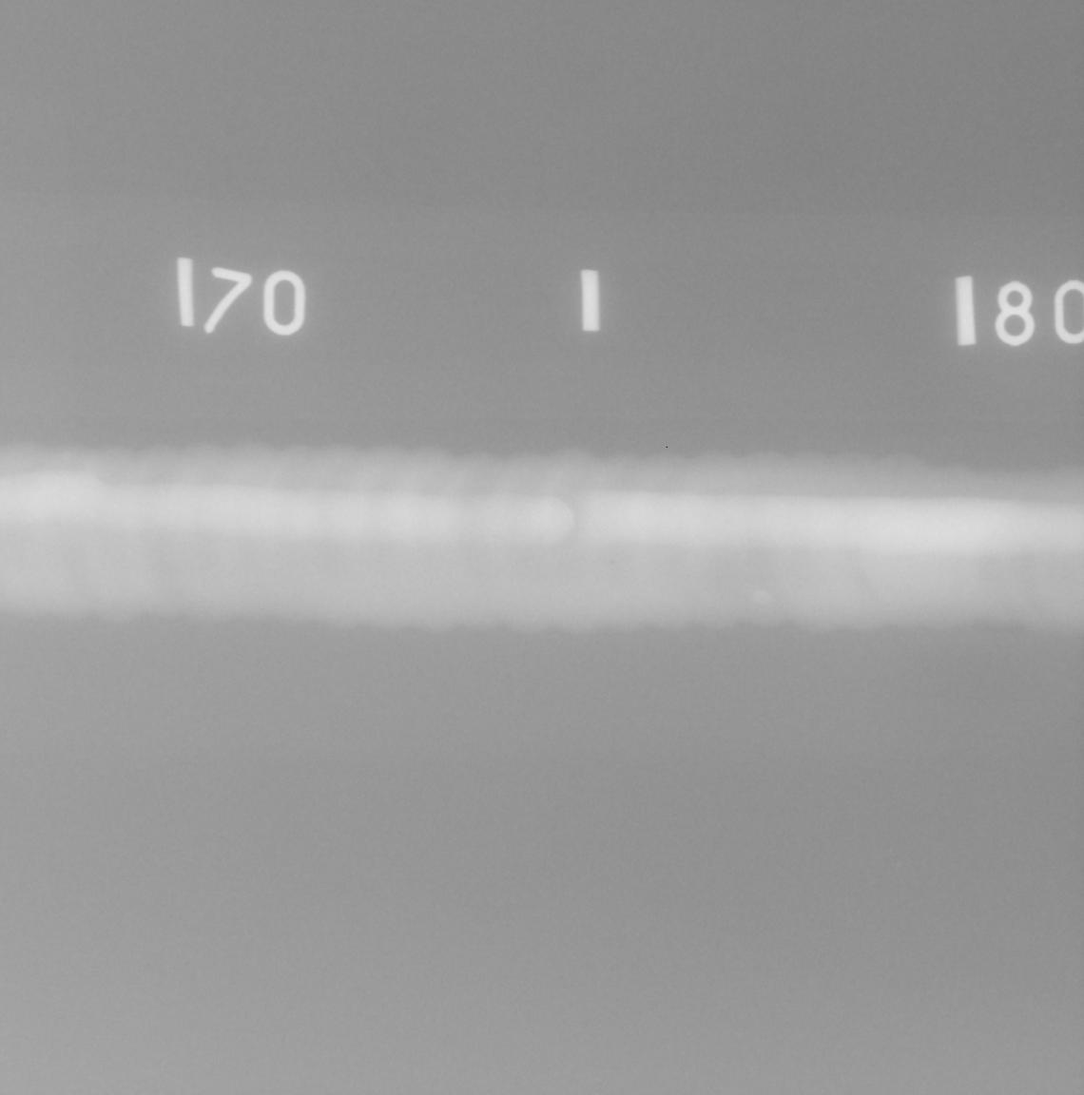Pore/Porosity: (611, 558, 616, 563), (746, 608, 749, 613)
